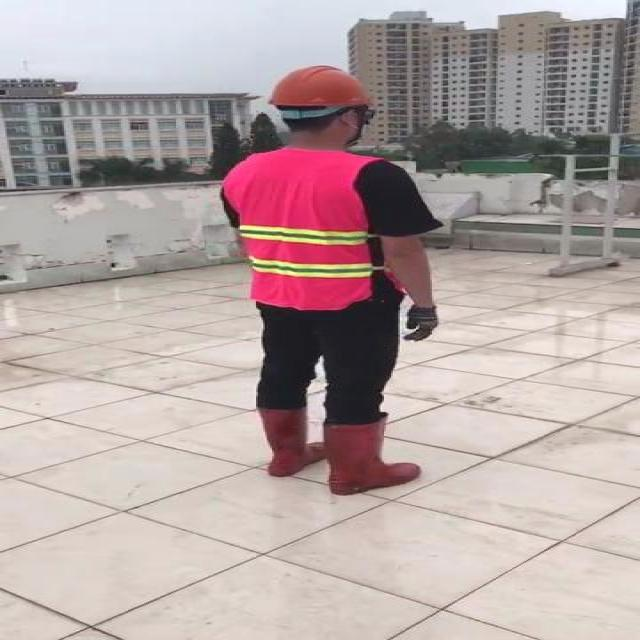boots: (324, 421, 419, 494), (258, 406, 325, 480)
hand_glove: (405, 304, 443, 343)
head_helmet: (268, 62, 372, 110)
person: (208, 60, 459, 499)
vest: (224, 147, 372, 312)
